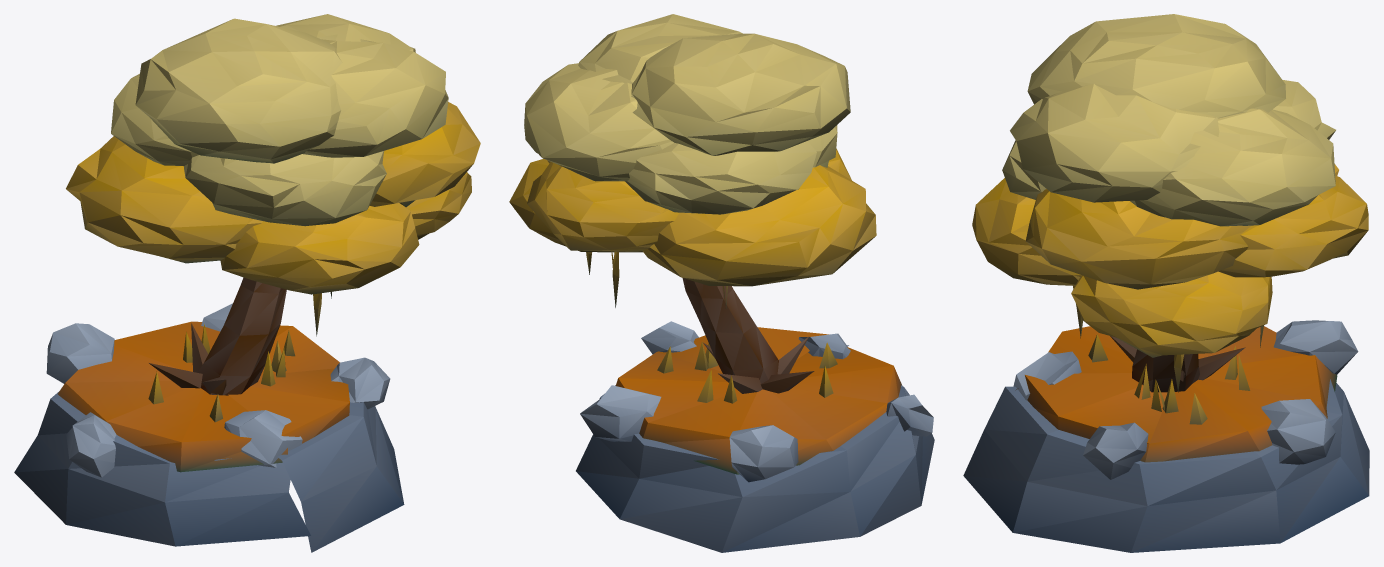
The model's file is pohon_river_autumn_545009.glb.
The picture shows the model from 3 angles, left to right: view 1: azimuth 30°, elevation 25°; view 2: azimuth 150°, elevation 25°; view 3: azimuth 270°, elevation 25°; orthographic projection. The views are drawn at different scales.
Parts seen in each view (by area): view 1: Dedaunan_Dan_Sulur, Pulau_Batu_Tepi_Sungai, Batang_Dan_Akar; view 2: Dedaunan_Dan_Sulur, Pulau_Batu_Tepi_Sungai, Batang_Dan_Akar; view 3: Dedaunan_Dan_Sulur, Pulau_Batu_Tepi_Sungai, Batang_Dan_Akar.
Boxes of the visible parts, <box> form: Dedaunan_Dan_Sulur: <box>66,14,480,336</box>; Pulau_Batu_Tepi_Sungai: <box>14,303,404,552</box>; Batang_Dan_Akar: <box>149,277,286,395</box>; Dedaunan_Dan_Sulur: <box>509,14,876,308</box>; Pulau_Batu_Tepi_Sungai: <box>576,321,934,552</box>; Batang_Dan_Akar: <box>682,278,814,393</box>; Dedaunan_Dan_Sulur: <box>972,14,1368,392</box>; Pulau_Batu_Tepi_Sungai: <box>963,320,1369,552</box>; Batang_Dan_Akar: <box>1110,336,1245,392</box>.
Bounding box in the file's own units: 6.66 × 6.59 × 5.41.
